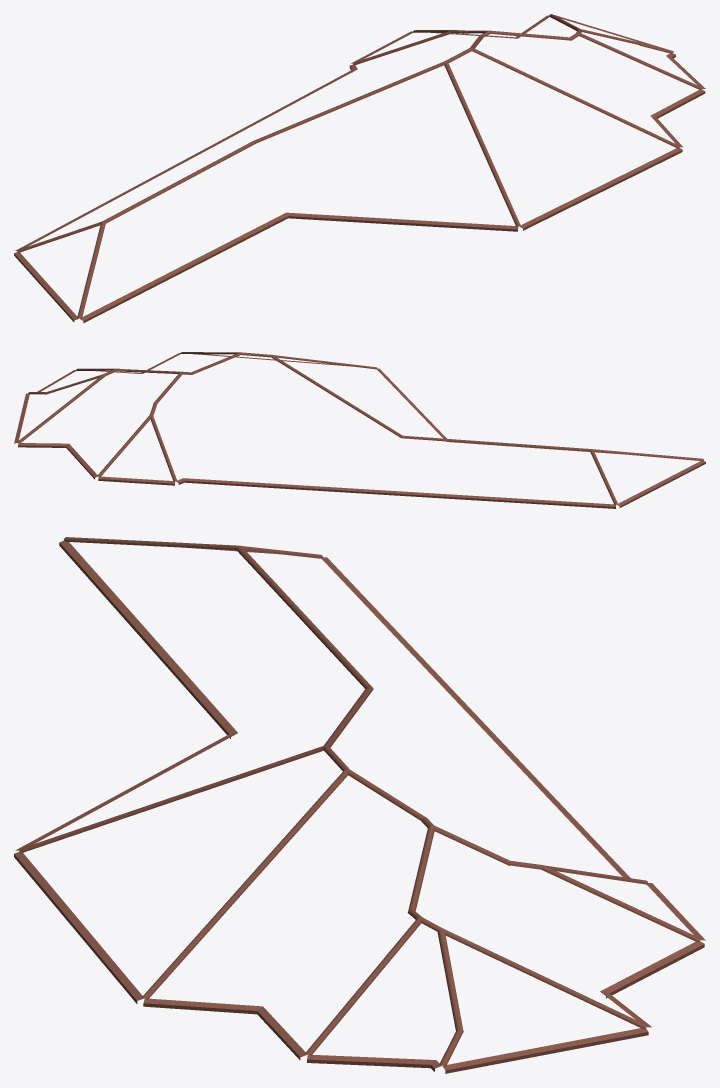
3 renders of one model, top to bottom at view 1: azimuth 30°, elevation 25°; view 2: azimuth 150°, elevation 25°; view 3: azimuth 270°, elevation 25°, orthographic. The views are drawn at different scales.
Parts seen in each view (by area): view 1: detail; view 2: detail; view 3: detail.
Boxes of the visible parts, left/top/right/bottom form: detail: left=14, top=14, right=705, bottom=323; detail: left=14, top=352, right=705, bottom=508; detail: left=14, top=537, right=705, bottom=1073.
Bounding box in the file's own units: 50.38 × 5.95 × 27.66.
